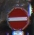No entry: (6, 6, 29, 30)
